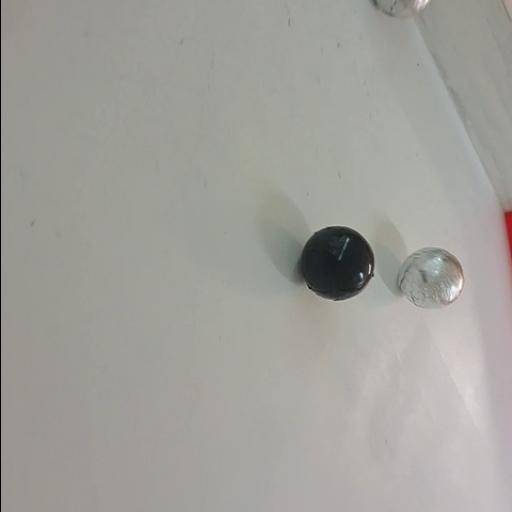alive: (396, 245, 466, 312), (368, 0, 436, 20)
dead: (298, 224, 376, 302)
